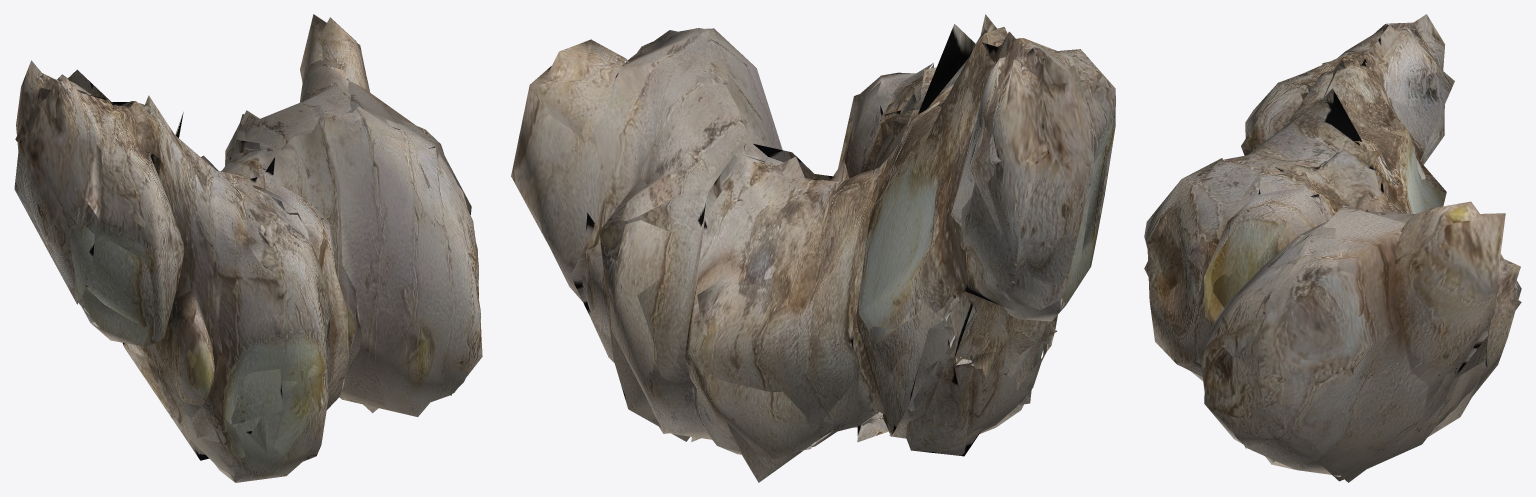
Rendered from ginger.glb.
3 renders of one model, left to right at view 1: azimuth 30°, elevation 25°; view 2: azimuth 150°, elevation 25°; view 3: azimuth 270°, elevation 25°, orthographic. The views are drawn at different scales.
Parts seen in each view (by area): view 1: ginger-fine, ginger-coarse; view 2: ginger-fine, ginger-coarse; view 3: ginger-fine, ginger-coarse.
Part boxes in pixels (x1,y1,x2,y2): ginger-fine: (16, 17, 482, 482); ginger-coarse: (14, 14, 478, 481); ginger-fine: (529, 27, 1115, 458); ginger-coarse: (511, 14, 1115, 482); ginger-fine: (1144, 14, 1521, 481); ginger-coarse: (1144, 25, 1521, 482).
Bounding box in the file's own units: 1 × 1 × 1.
1 material, 1 textured.
